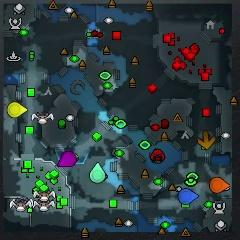p1: (179, 188, 198, 204)
p2: (90, 162, 107, 183)
p3: (58, 151, 77, 167)
p4: (7, 102, 27, 117)
p5: (209, 178, 230, 194)
x5: (198, 130, 215, 150)
